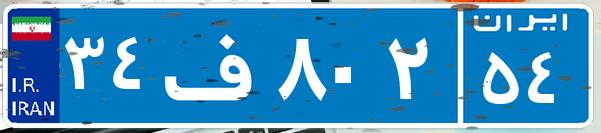0: (330, 28, 385, 110)
2: (385, 28, 445, 110)
3: (57, 26, 110, 107)
4: (110, 28, 158, 105), (525, 38, 570, 115)
5: (475, 38, 525, 113)
8: (273, 28, 330, 110)
ف: (158, 15, 273, 115)
